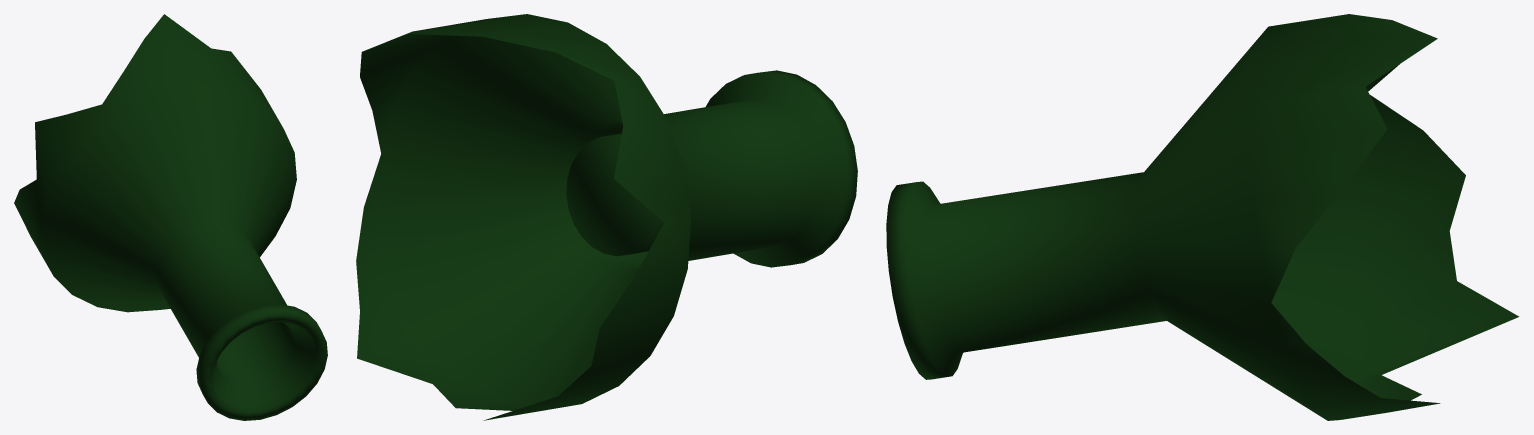
Rendered from bottle.gltf.
3 renders of one model, left to right at view 1: azimuth 30°, elevation 25°; view 2: azimuth 150°, elevation 25°; view 3: azimuth 270°, elevation 25°, orthographic. The views are drawn at different scales.
Bounding box in the file's own units: 0.1261 × 0.1371 × 0.2012.
